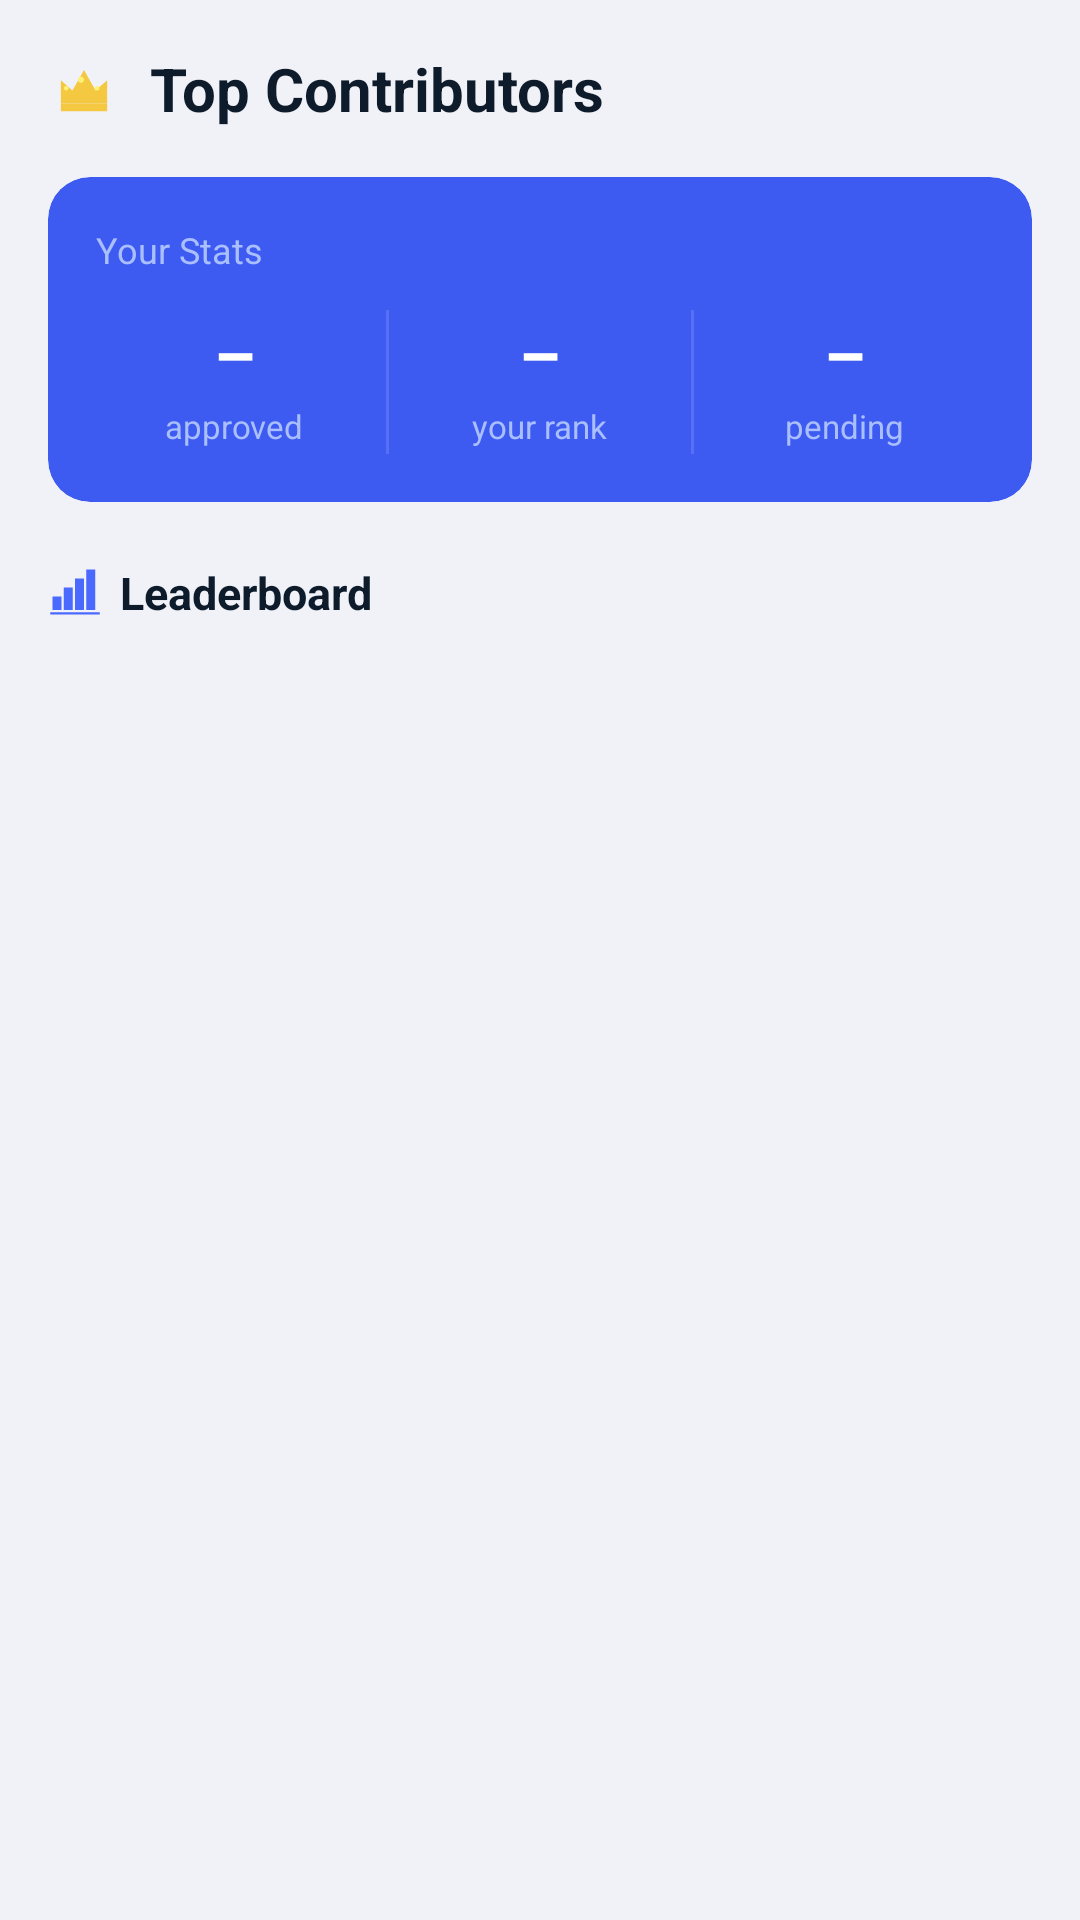

Where icons sit on this 1080w x 1920h app screen, as [left=x1, top=y1, right=x2, bottom=y2]:
crown gold: [left=60, top=70, right=108, bottom=112]
